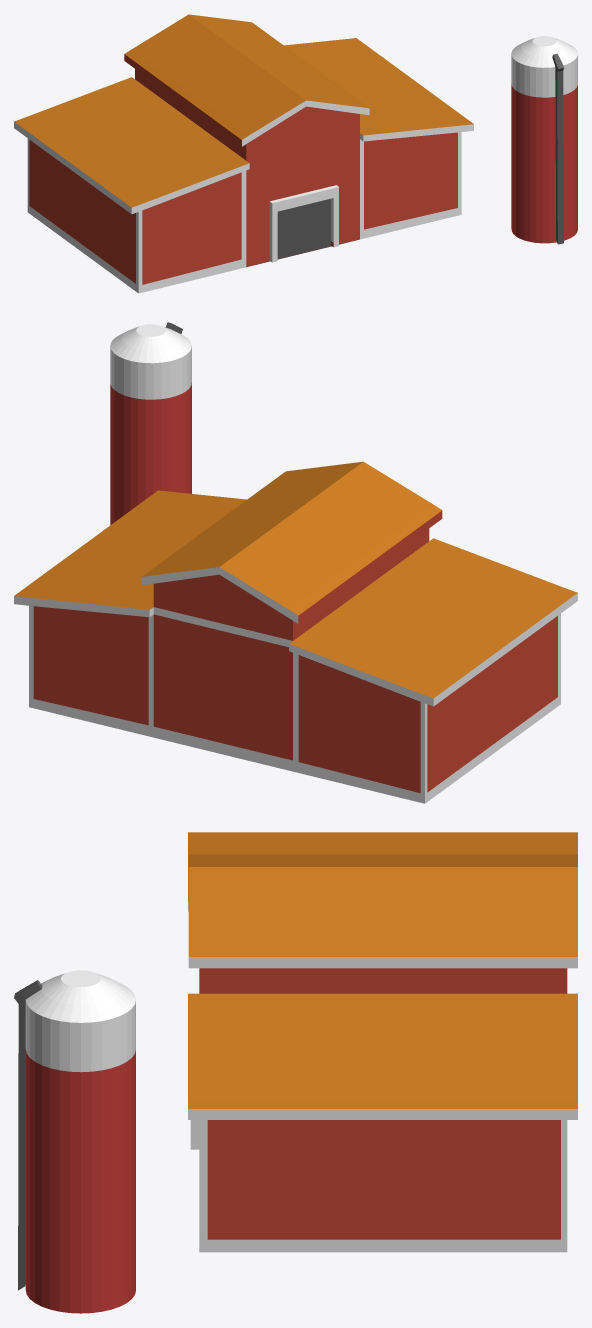
The model's file is farm_house_4.fbx.
3 views of the same model, one above another, from view 1: azimuth 30°, elevation 25°; view 2: azimuth 150°, elevation 25°; view 3: azimuth 270°, elevation 25° (orthographic). The views are drawn at different scales.
Visible parts, largest first — view 1: Cylinder; view 2: Cylinder; view 3: Cylinder.
Boxes of the visible parts, left/top/right/bottom form: Cylinder: left=14, top=14, right=577, bottom=293; Cylinder: left=14, top=322, right=577, bottom=803; Cylinder: left=14, top=832, right=577, bottom=1313.
Size of the model in its own units: 426 by 187 by 307.
